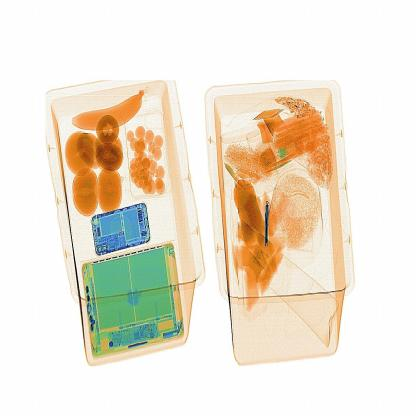knife: (256, 190, 277, 250)
